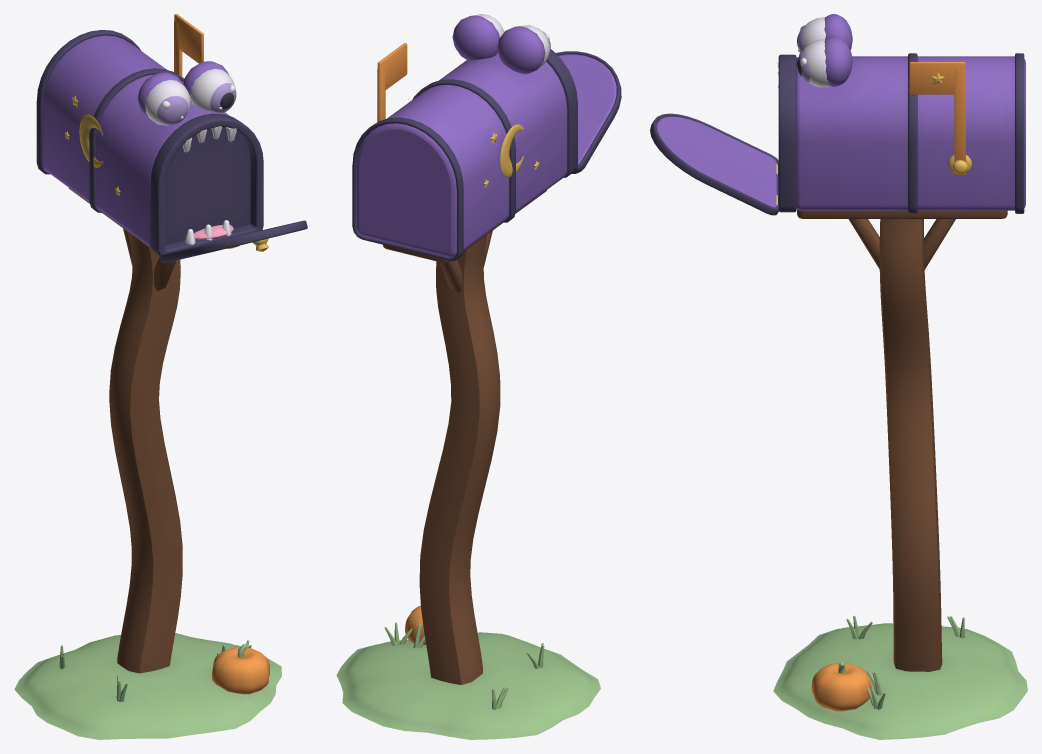
The model's file is buzon_tenebroso.glb.
3 renders of one model, left to right at view 1: azimuth 30°, elevation 25°; view 2: azimuth 150°, elevation 25°; view 3: azimuth 270°, elevation 25°, orthographic. The views are drawn at different scales.
Parts seen in each view (by area): view 1: spooky-mailbox_body; view 2: spooky-mailbox_body; view 3: spooky-mailbox_body.
Part boxes in pixels (box(x1,y1,x2,y2)): spooky-mailbox_body: box(14, 14, 307, 739); spooky-mailbox_body: box(336, 14, 621, 739); spooky-mailbox_body: box(650, 14, 1027, 739).
Size of the model in its own units: 0.5204 by 1.37 by 0.7181.
Materials: 3 (3 with a texture image).
